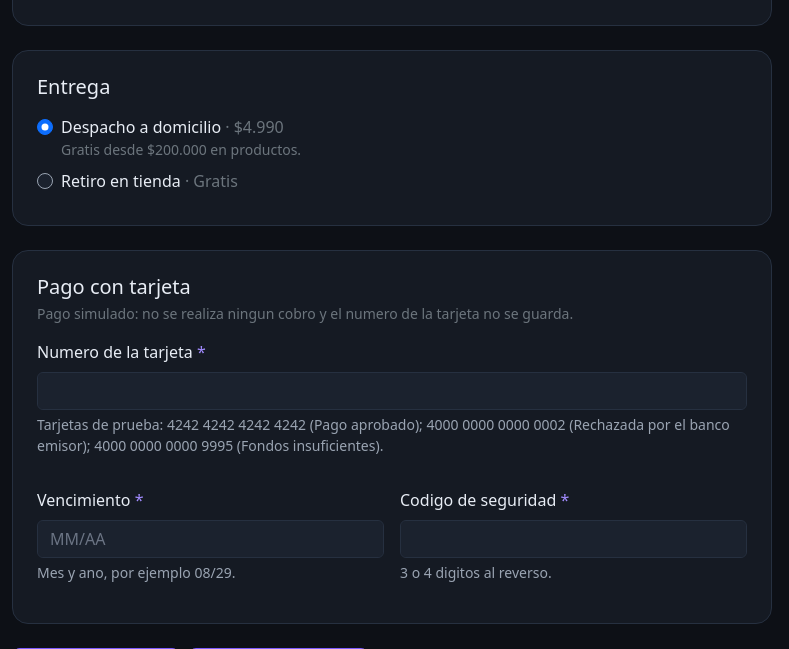
Test case: Checkout › invitado › rechaza una tarjeta con el digito de control invalido
The width and height of the screenshot is (789, 649).
(page scrolled)
In the field labelled "Numero de la tarjeta *": (392, 391) left=37, top=372, right=747, bottom=410, type "4242424242424241"
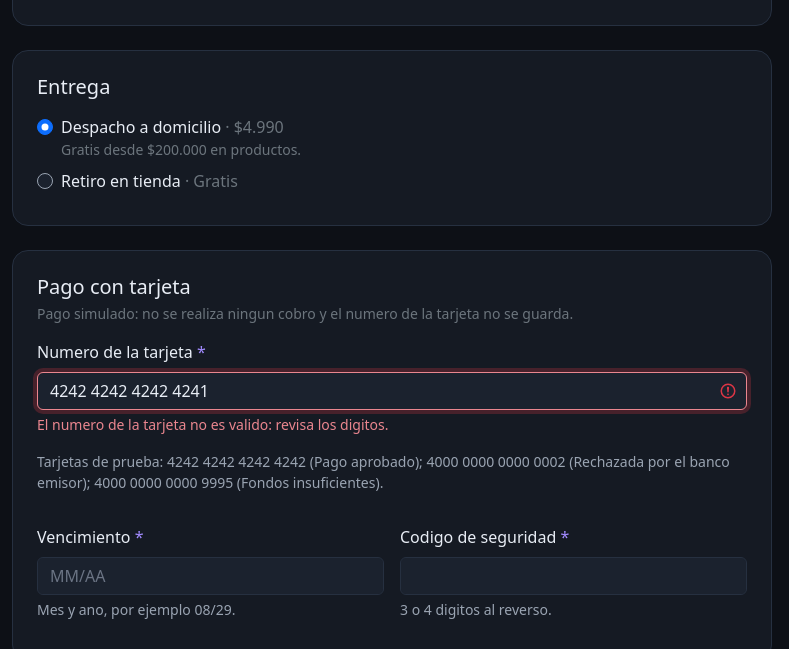
Expected: the text "El numero de la tarjeta no es valido: revisa los digitos." is shown, left=37, top=415, right=388, bottom=434
